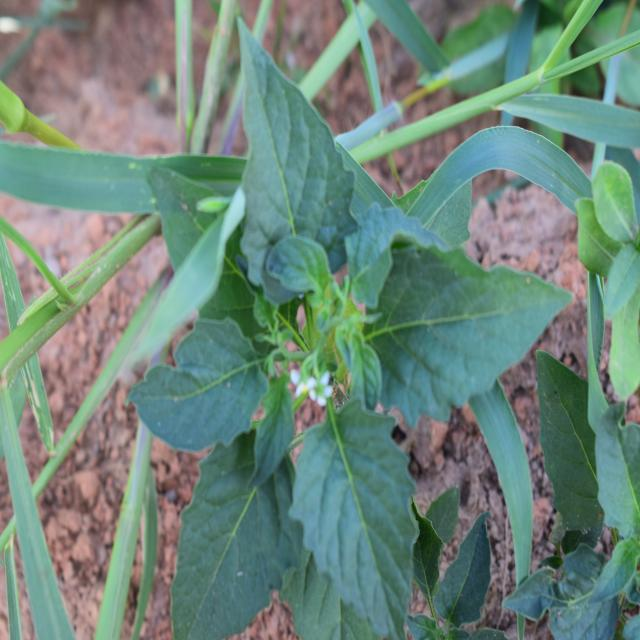Black_nightshade: (136, 60, 537, 615)
